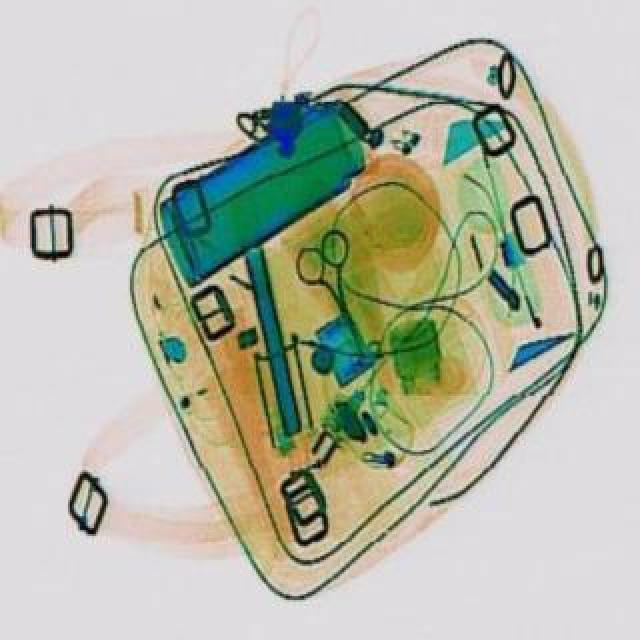pliers: (284, 224, 388, 356)
